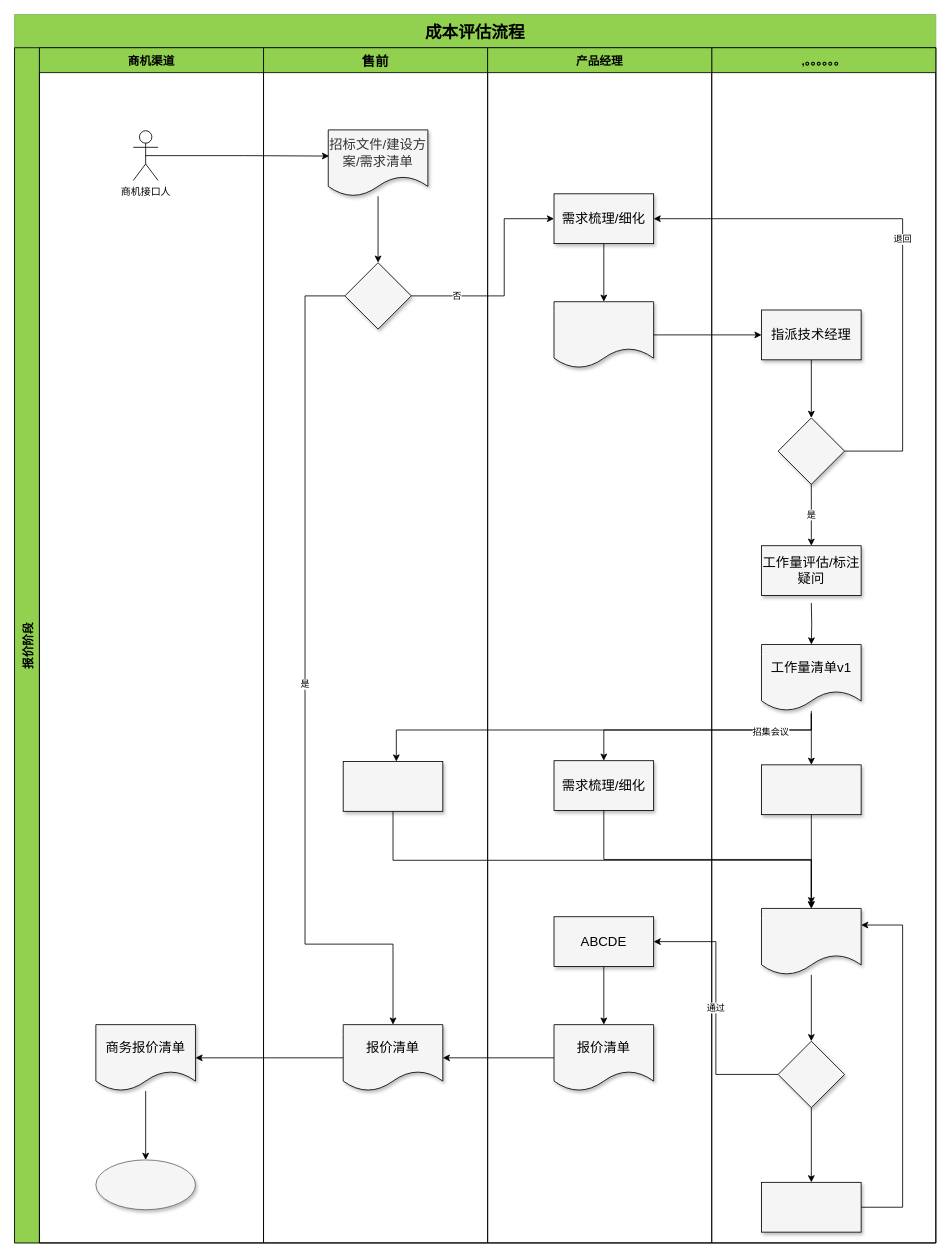
The diagram is 950 pixels wide and 1257 high, and some of its shapes have lost their labels. The shapes that lost their labels are listed below. From the top down, each one's centre as x and y in pixels, then its label:
At point (378, 297): "是否可以根据模板报价".
At point (604, 336): "报价需求清单".
At point (812, 452): "是否可评估".
At point (393, 787): "背景/答疑".
At point (811, 790): "需求可行性/工作量评估".
At point (811, 942): "工作量清单v2".
At point (812, 1075): "负责人复核".
At point (146, 1186): "结束".
At point (811, 1208): "再次评估".
